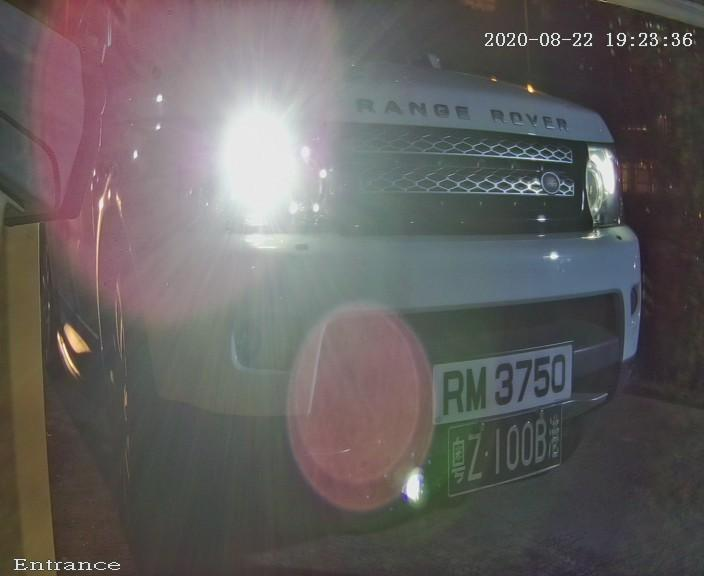License Plate: (423, 324, 581, 445)
